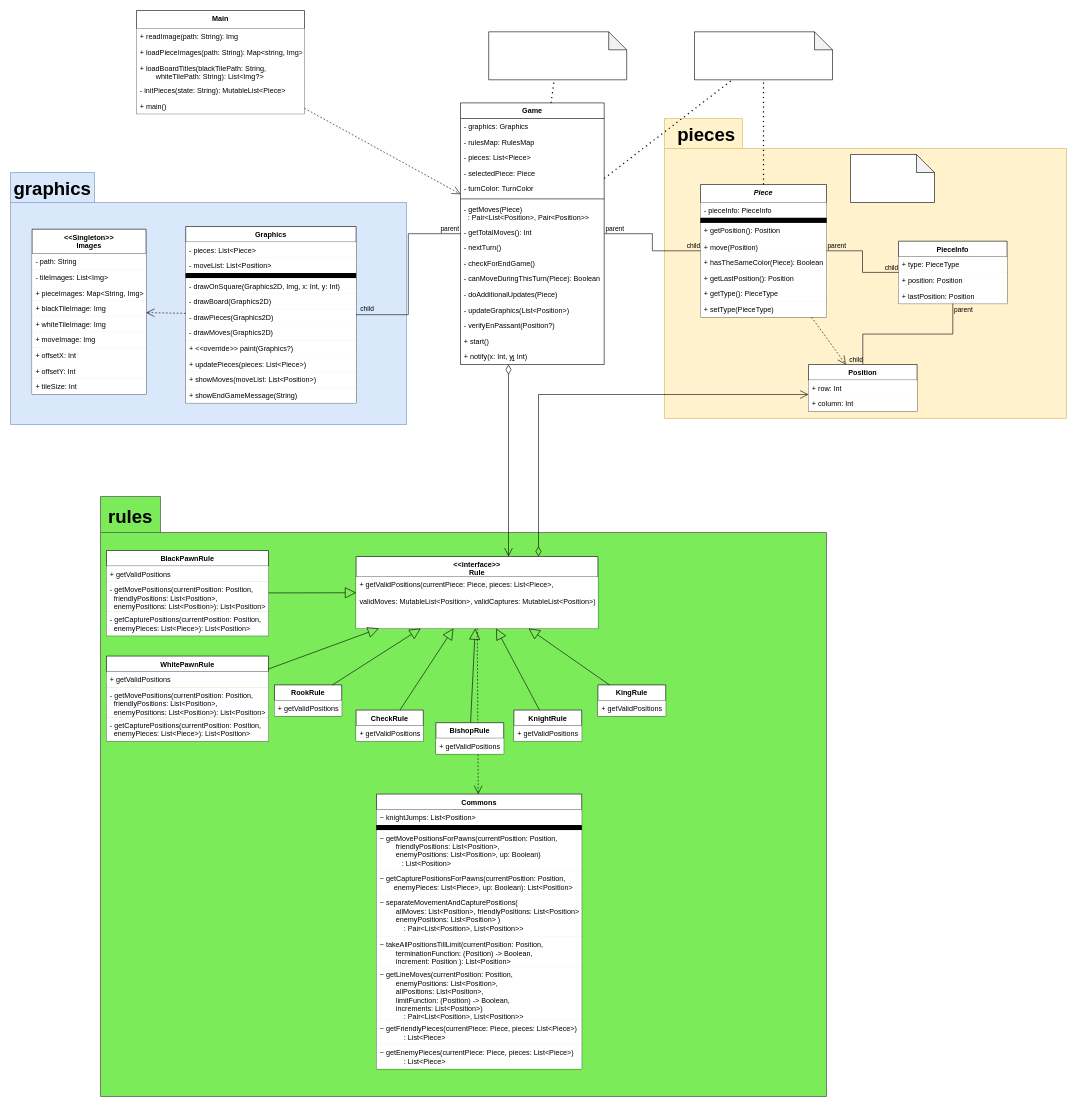
Image size: 1077x1107. Some labels were removed from this diagram. The centre of each missing label's shape, as x and y in pixels:
PieceType = String: [892,178]
RulesMap = Map<PieceType, List<Rule>>: [557,55]
TurnColor = Boolean: [763,55]
